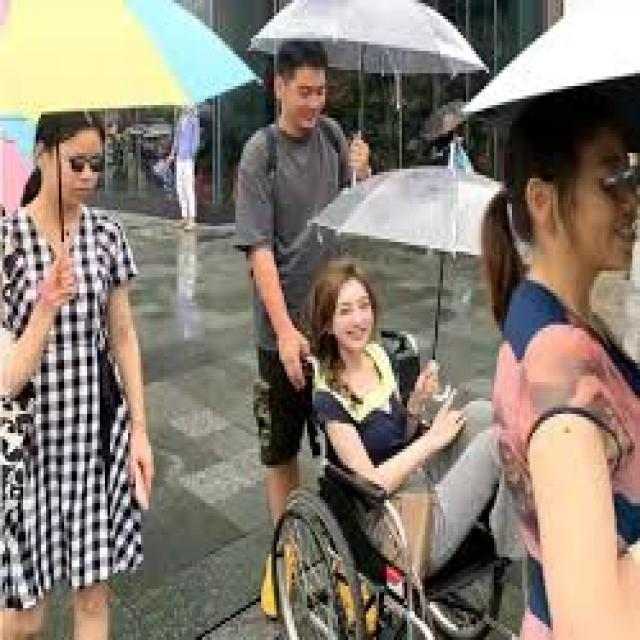wheelchairs: (276, 309, 520, 637)
